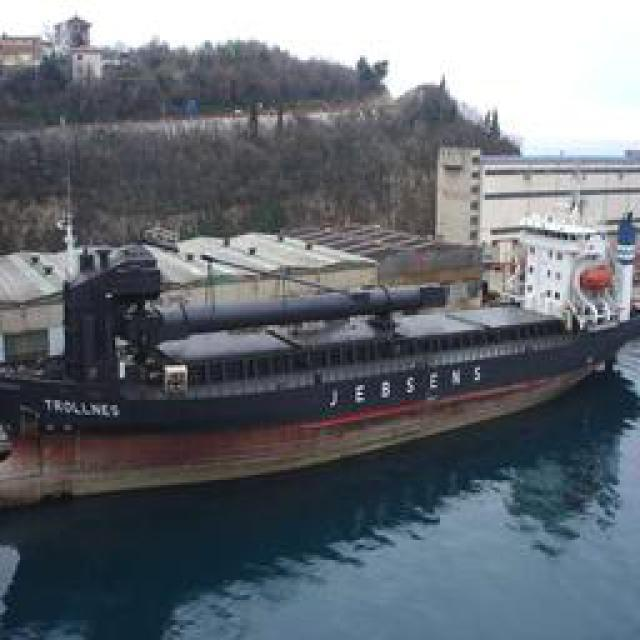Ship: (8, 249, 626, 512)
